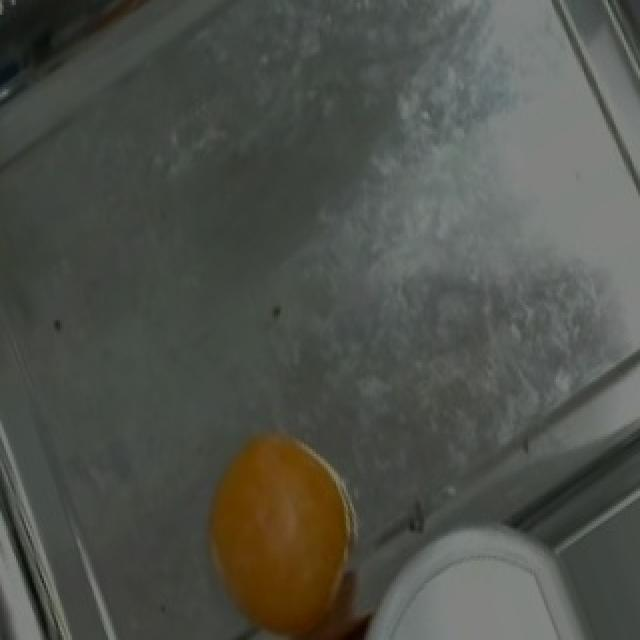Fruit: (190, 412, 374, 640), (376, 538, 576, 640)
